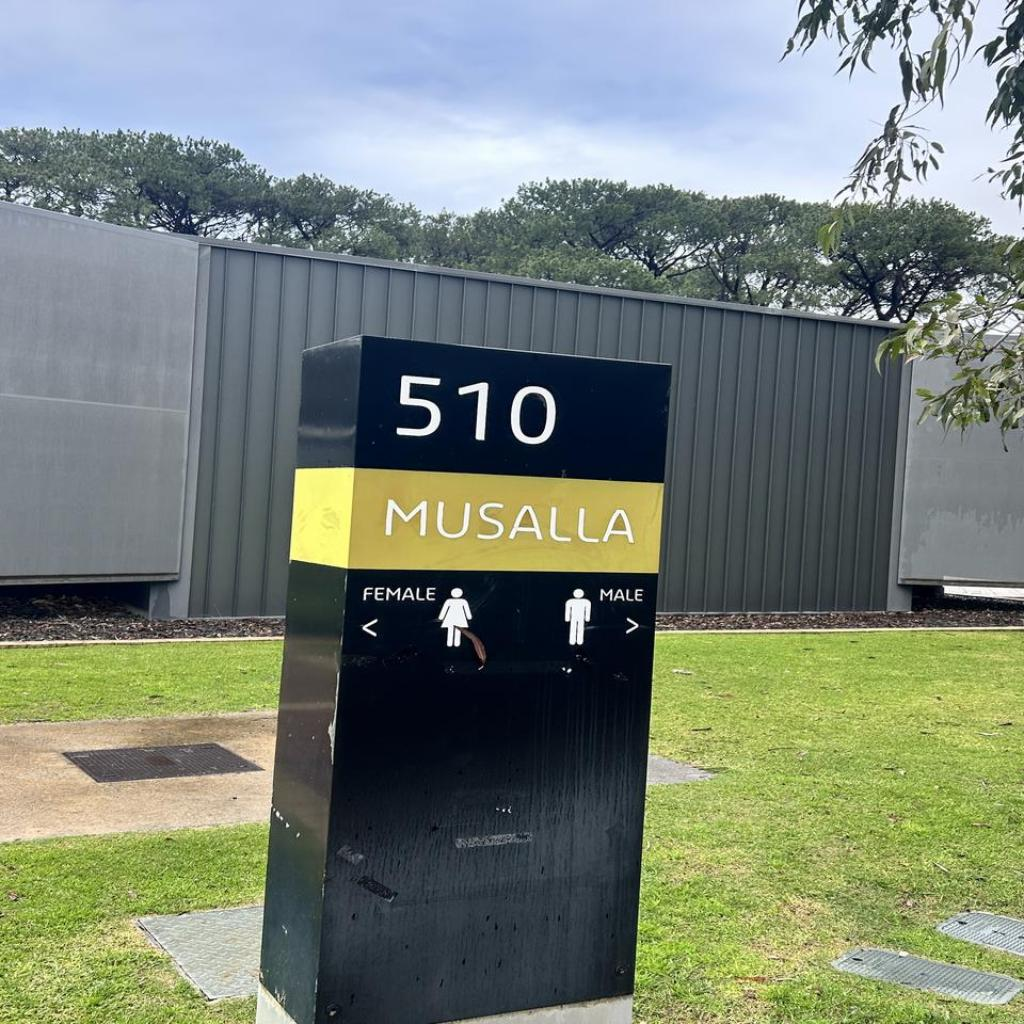BuildingCodes: (392, 368, 560, 452)
